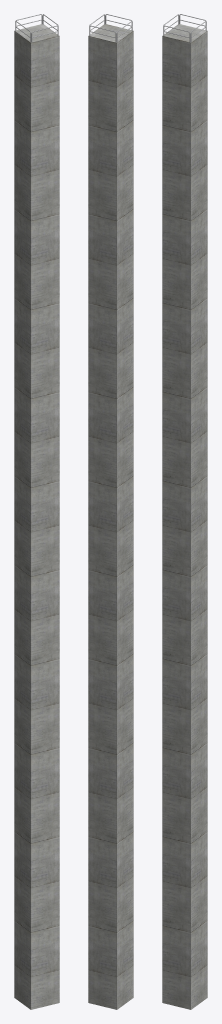
File: world.fbx
3 renders of one model, left to right at view 1: azimuth 30°, elevation 25°; view 2: azimuth 150°, elevation 25°; view 3: azimuth 330°, elevation 25°, orthographic.
Visible parts, largest first — view 1: Cube.003, Cylinder, Cylinder.001; view 2: Cube.003, Cylinder, Cylinder.001; view 3: Cube.003, Cylinder, Cylinder.001.
Part boxes in pixels (x1,y1,x2,y2): Cube.003: (14, 24, 59, 1009); Cylinder: (16, 14, 58, 42); Cylinder.001: (15, 14, 58, 42); Cube.003: (88, 24, 133, 1009); Cylinder: (89, 14, 131, 42); Cylinder.001: (89, 14, 132, 42); Cube.003: (162, 24, 207, 1009); Cylinder: (163, 14, 205, 42); Cylinder.001: (163, 14, 206, 42).
Bounding box in the file's own units: 2.5 × 81.33 × 2.5.
Materials: 2 (2 with a texture image).
